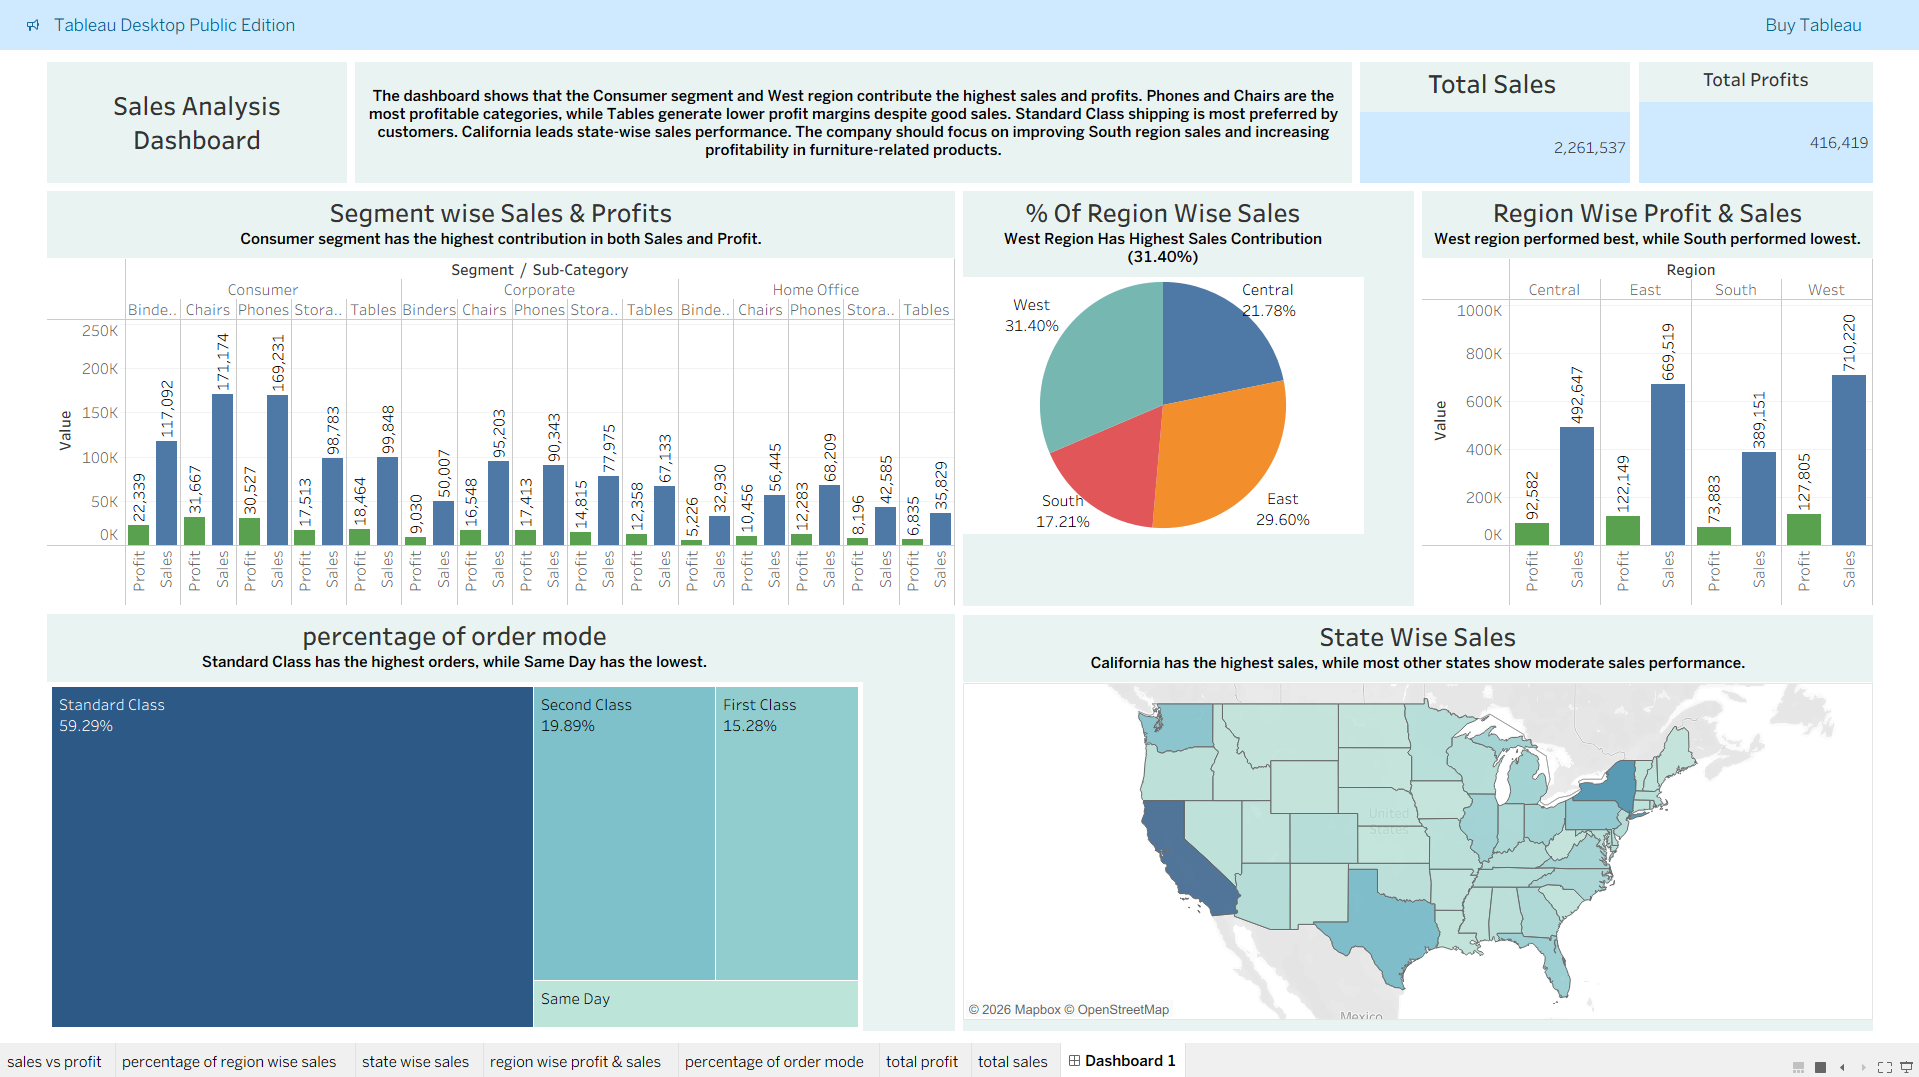

This screenshot's page, from the dashboard's own definition file:
{"tool":"tableau","page":{"name":"Dashboard 1","canvas":[1000,1000],"units":"permille","ordinal":0},"visuals":[{"type":"text","box":[4.8,10,166.4,129.7]},{"type":"text","box":[171.2,10,542.9,129.7]},{"type":"worksheet","title":"total sales","mark":"Automatic","box":[714.1,10,150.4,129.7]},{"type":"worksheet","title":"total profit","mark":"Automatic","box":[864.5,10,130.7,129.7]},{"type":"worksheet","title":"sales vs profit","mark":"Automatic","cols":["Segment","Sub-Category"],"box":[4.8,139.7,494.8,424.4]},{"type":"worksheet","title":"percentage of region wise sales","mark":"Pie","box":[499.5,139.7,247.7,424.7]},{"type":"worksheet","title":"region wise profit & sales","mark":"Automatic","cols":["Region"],"box":[747.2,139.7,248,424.7]},{"type":"worksheet","title":"percentage of order mode","mark":"Automatic","box":[4.8,564.1,494.8,425.9]},{"type":"worksheet","title":"state wise sales","mark":"Automatic","box":[499.5,564.4,495.7,425.6]}]}

Visuals, with their boxes on the dashboard's canvas, which has no fixed pixel size, in thousandths of its width and height (x1, y1, x2, y2). These are canvas units, not pixel positions in the 1919x1077 screenshot, which may show the page scaled, cropped or inside an application window:
text: detection(5, 10, 171, 140)
text: detection(171, 10, 714, 140)
"total sales" worksheet: detection(714, 10, 864, 140)
"total profit" worksheet: detection(864, 10, 995, 140)
"sales vs profit" worksheet: detection(5, 140, 500, 564)
"percentage of region wise sales" worksheet (Pie marks): detection(500, 140, 747, 564)
"region wise profit & sales" worksheet: detection(747, 140, 995, 564)
"percentage of order mode" worksheet: detection(5, 564, 500, 990)
"state wise sales" worksheet: detection(500, 564, 995, 990)
